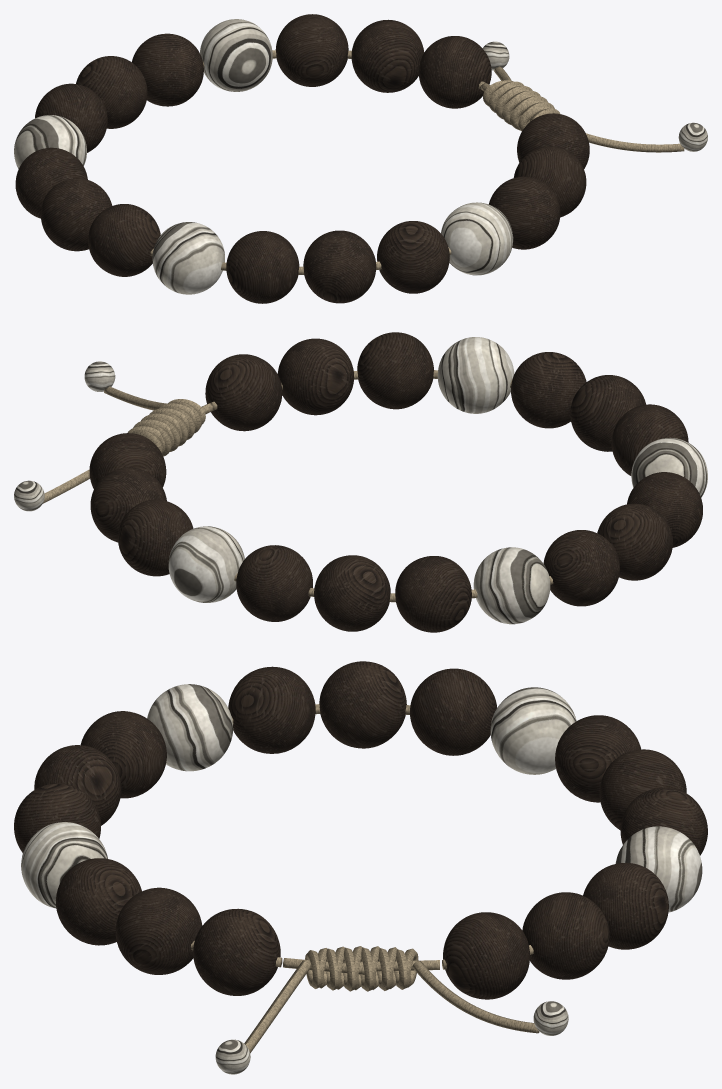
Rendered from dab-krzemien.glb.
3 renders of one model, top to bottom at view 1: azimuth 30°, elevation 25°; view 2: azimuth 150°, elevation 25°; view 3: azimuth 270°, elevation 25°, orthographic. The views are drawn at different scales.
Visible parts, largest first — view 1: bead_round_1.004, bead_round_0.004, bead_round_2, bead_round_0.001, bead_round_2.004, bead_round_2.003, bead_round_1, bead_round_0, bead_round_1.003, bead_round_0.005, bead_round_1.001, bead_round_0.003 (+10 smaller); view 2: bead_round_1.005, bead_round_0.002, bead_round_1.002, bead_round_2.001, bead_round_1.001, bead_round_0.005, bead_round_0.006, bead_round_2.005, bead_round_2.002, bead_round_0.001, bead_round_2.004, bead_round_0.003 (+11 smaller); view 3: bead_round_0.003, bead_round_0, bead_round_0.006, bead_round_1.003, bead_round_2.002, bead_round_1, bead_round_2.005, bead_round_2.003, bead_round_1.002, bead_round_1.005, bead_round_2, bead_round_0.004 (+11 smaller).
Part boxes in pixels (x1,y1,x2,y2): bead_round_1.004: [303, 230, 376, 303]; bead_round_0.004: [226, 231, 299, 303]; bead_round_2: [275, 14, 348, 86]; bead_round_0.001: [200, 19, 272, 91]; bead_round_2.004: [377, 221, 449, 293]; bead_round_2.003: [152, 222, 224, 294]; bead_round_1: [351, 19, 424, 92]; bead_round_0: [418, 36, 491, 108]; bead_round_1.003: [88, 204, 160, 276]; bead_round_0.005: [441, 202, 513, 275]; bead_round_1.001: [132, 33, 203, 106]; bead_round_0.003: [40, 178, 112, 251]; bead_round_1.005: [357, 332, 433, 409]; bead_round_0.002: [395, 556, 471, 632]; bead_round_1.002: [473, 547, 550, 624]; bead_round_2.001: [314, 555, 390, 631]; bead_round_1.001: [236, 545, 312, 621]; bead_round_0.005: [437, 337, 514, 413]; bead_round_0.006: [205, 354, 282, 431]; bead_round_2.005: [277, 338, 353, 415]; bead_round_2.002: [543, 530, 619, 606]; bead_round_0.001: [168, 526, 244, 602]; bead_round_2.004: [511, 352, 586, 428]; bead_round_0.003: [597, 503, 672, 580]; bead_round_0.003: [319, 661, 406, 748]; bead_round_0: [443, 912, 529, 999]; bead_round_0.006: [193, 908, 280, 995]; bead_round_1.003: [228, 666, 315, 753]; bead_round_2.002: [410, 668, 497, 755]; bead_round_1: [522, 892, 609, 979]; bead_round_2.005: [115, 887, 202, 974]; bead_round_2.003: [147, 684, 233, 771]; bead_round_1.002: [490, 687, 576, 774]; bead_round_1.005: [55, 858, 141, 945]; bead_round_2: [583, 862, 668, 949]; bead_round_0.004: [80, 711, 166, 798].
Size of the model in its own units: 7.67 by 0.8026 by 6.35.
7 materials, 7 textured.
